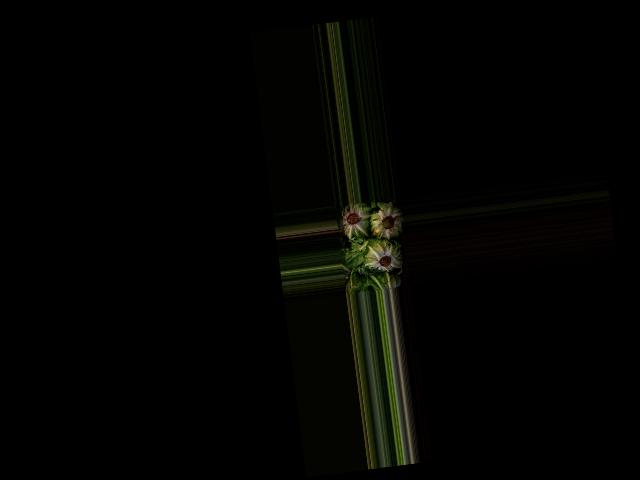lettuce: (339, 201, 373, 240)
